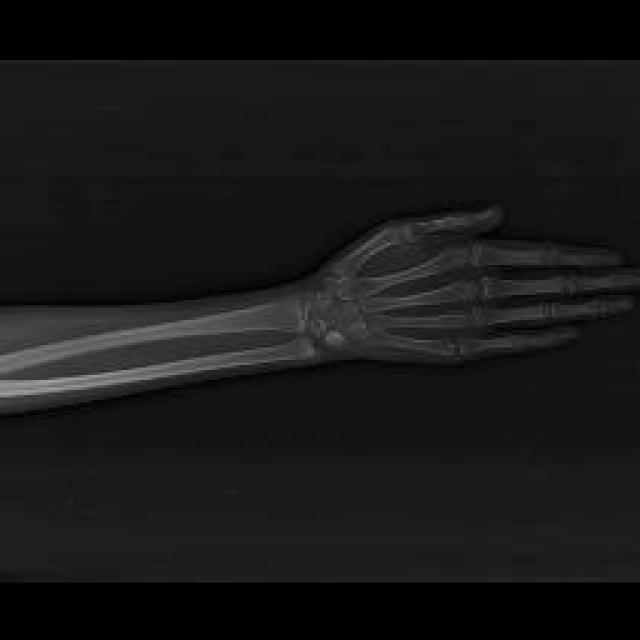normal: (0, 206, 636, 396)
